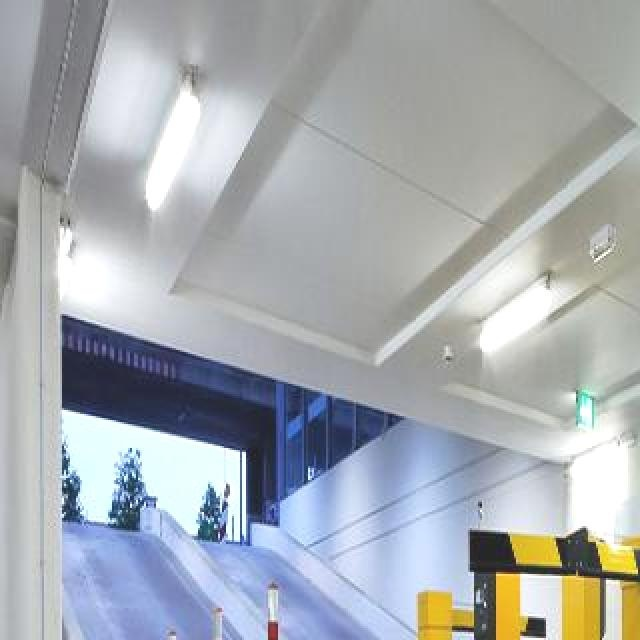fluorescent tube: (125, 44, 233, 240), (460, 269, 565, 378)
